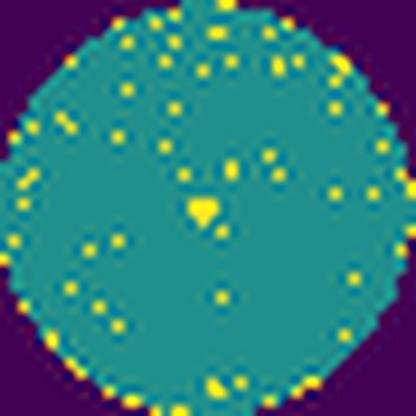Center: (186, 195, 218, 228)
